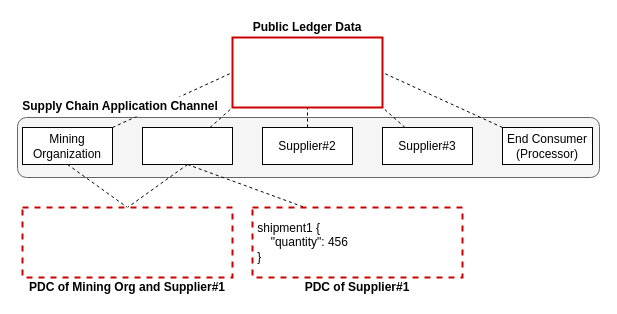
This 617x314 diagram has some shape labels left out. The shapes that lost their labels are listed below. From the top down, each one's box as (x1, y1, x2, y2) in pixels, then its label:
(231, 36, 383, 108): shipment1 { origin: "SITE-B", ownership: "Supplier#1" }
(142, 126, 232, 164): Supplier#1
(21, 206, 233, 278): shipment1 { "agreedUponPrice": 123 }
